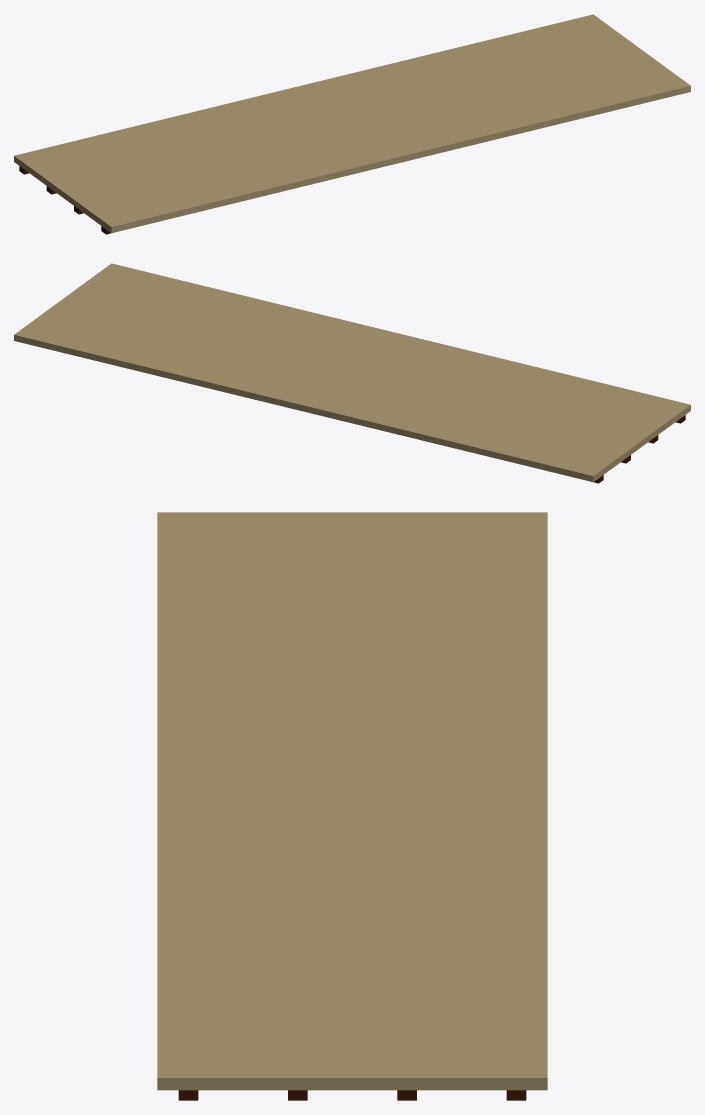
The model's file is panel_ceiling.fbx.
The picture shows the model from 3 angles, top to bottom: view 1: azimuth 30°, elevation 25°; view 2: azimuth 150°, elevation 25°; view 3: azimuth 270°, elevation 25°; orthographic projection. The views are drawn at different scales.
Parts seen in each view (by area): view 1: Part_0; view 2: Part_0; view 3: Part_0.
Boxes of the visible parts, <box> form: Part_0: <box>14,14,690,234</box>; Part_0: <box>14,263,690,483</box>; Part_0: <box>157,512,547,1100</box>.
Bounding box in the file's own units: 24 × 0.45 × 7.
